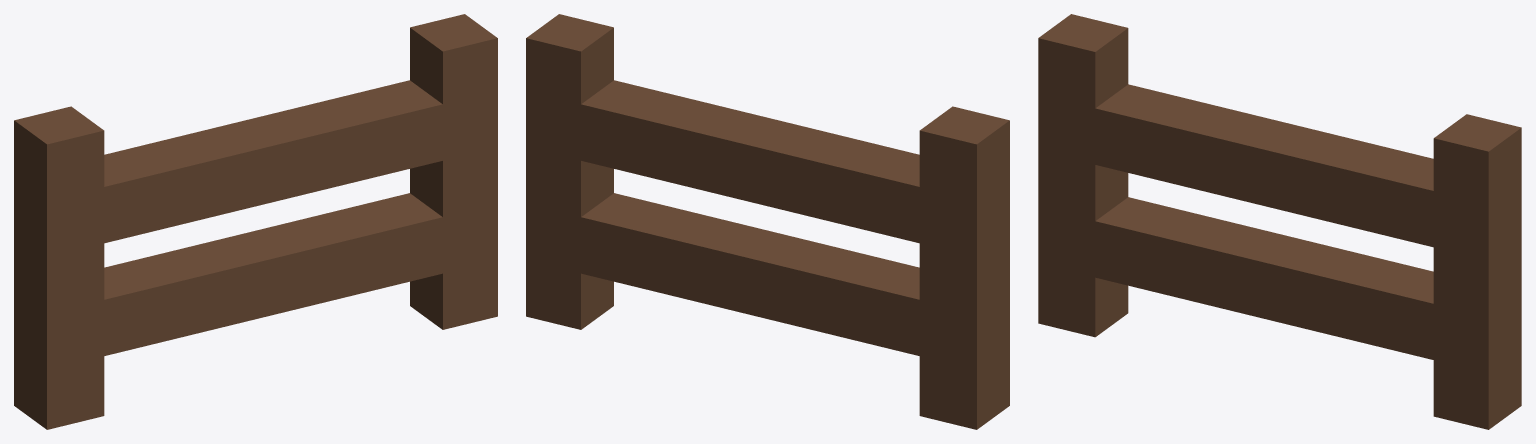
The model's file is fence.fbx.
3 renders of one model, left to right at view 1: azimuth 30°, elevation 25°; view 2: azimuth 150°, elevation 25°; view 3: azimuth 330°, elevation 25°, orthographic.
Parts seen in each view (by area): view 1: Cube; view 2: Cube; view 3: Cube.
Boxes of the visible parts, bbox=[...] form: Cube: bbox=[14, 14, 497, 429]; Cube: bbox=[526, 14, 1009, 429]; Cube: bbox=[1038, 14, 1521, 429].
Bounding box in the file's own units: 616 × 373 × 78.04.
